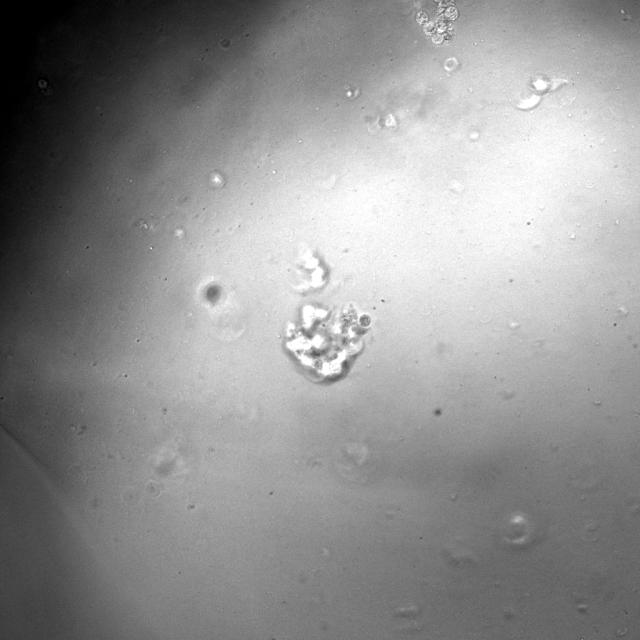organoid: (284, 304, 370, 382), (416, 0, 459, 44), (296, 249, 329, 293)
